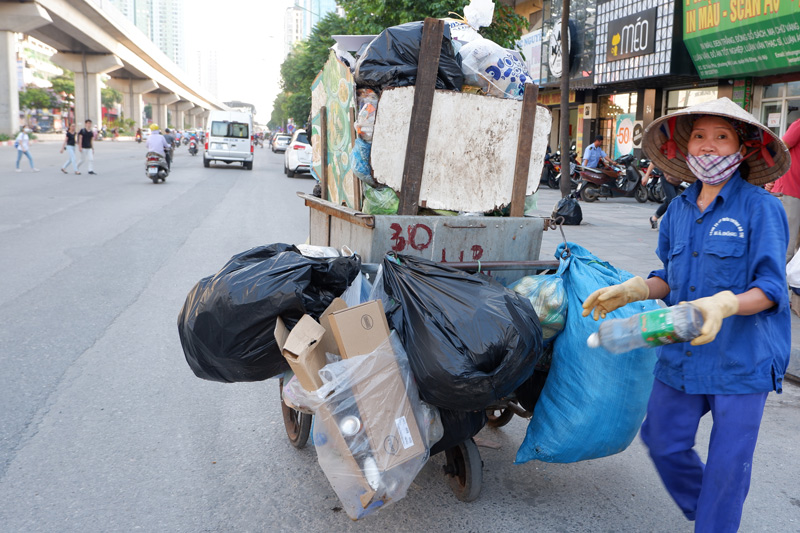plastic bag: (173, 15, 665, 533)
